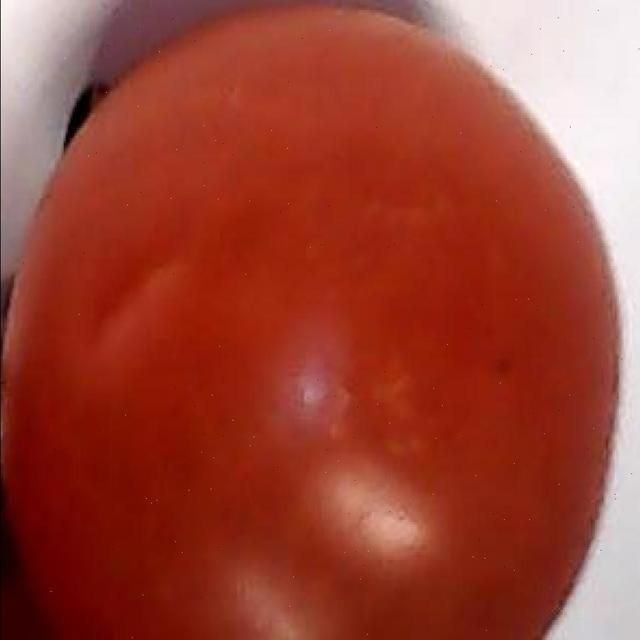Healthy Fruit: (18, 0, 426, 425)
